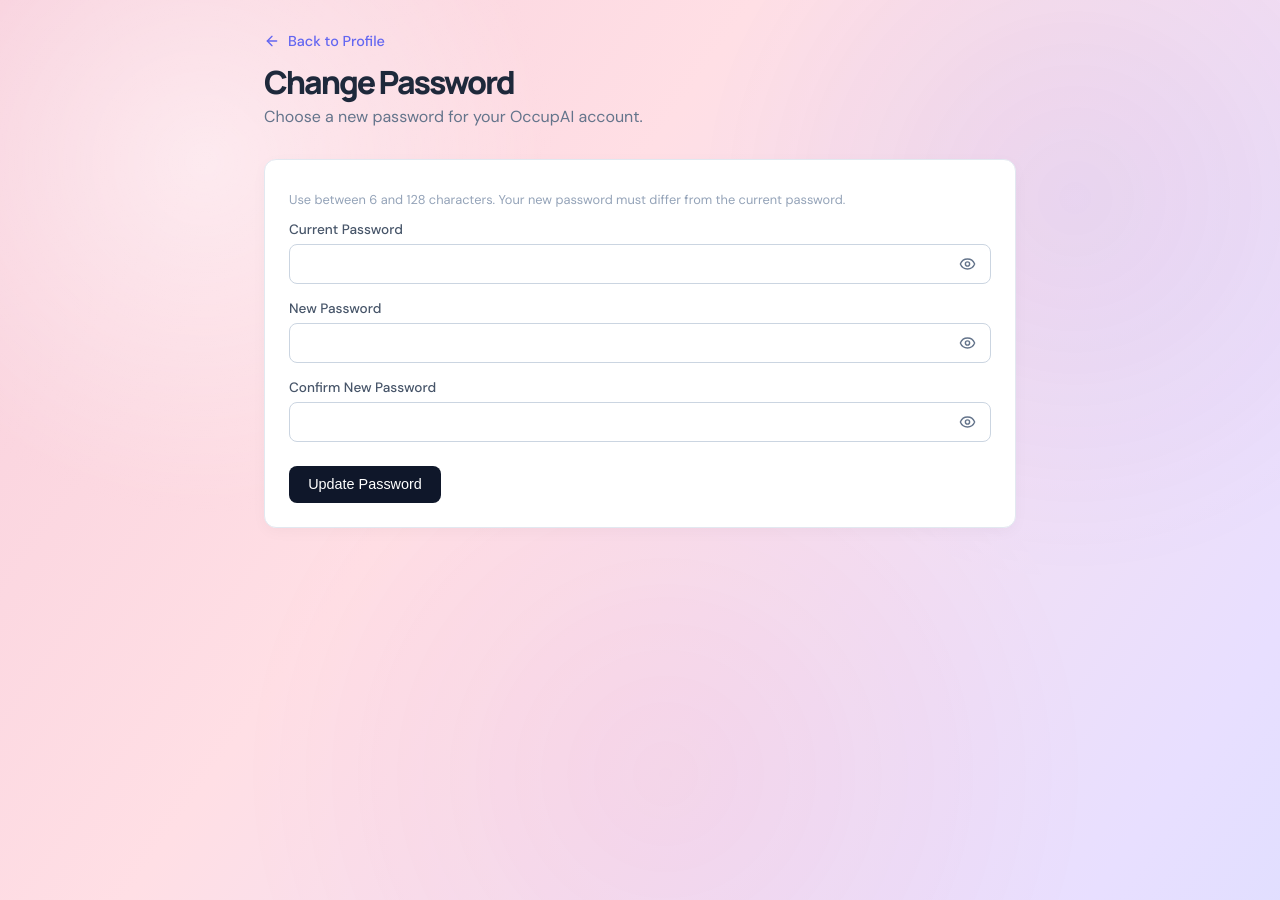
Test: Dedicated password page › uses the registration policy and never writes passwords to browser storage
The width and height of the screenshot is (1280, 900).
Expected: the text "Use between 6 and 128 characters" is shown, [289,191,495,208]
Type "Current1!" into the password field labelled "Current Password" at (640, 264), box [289,244,991,284]
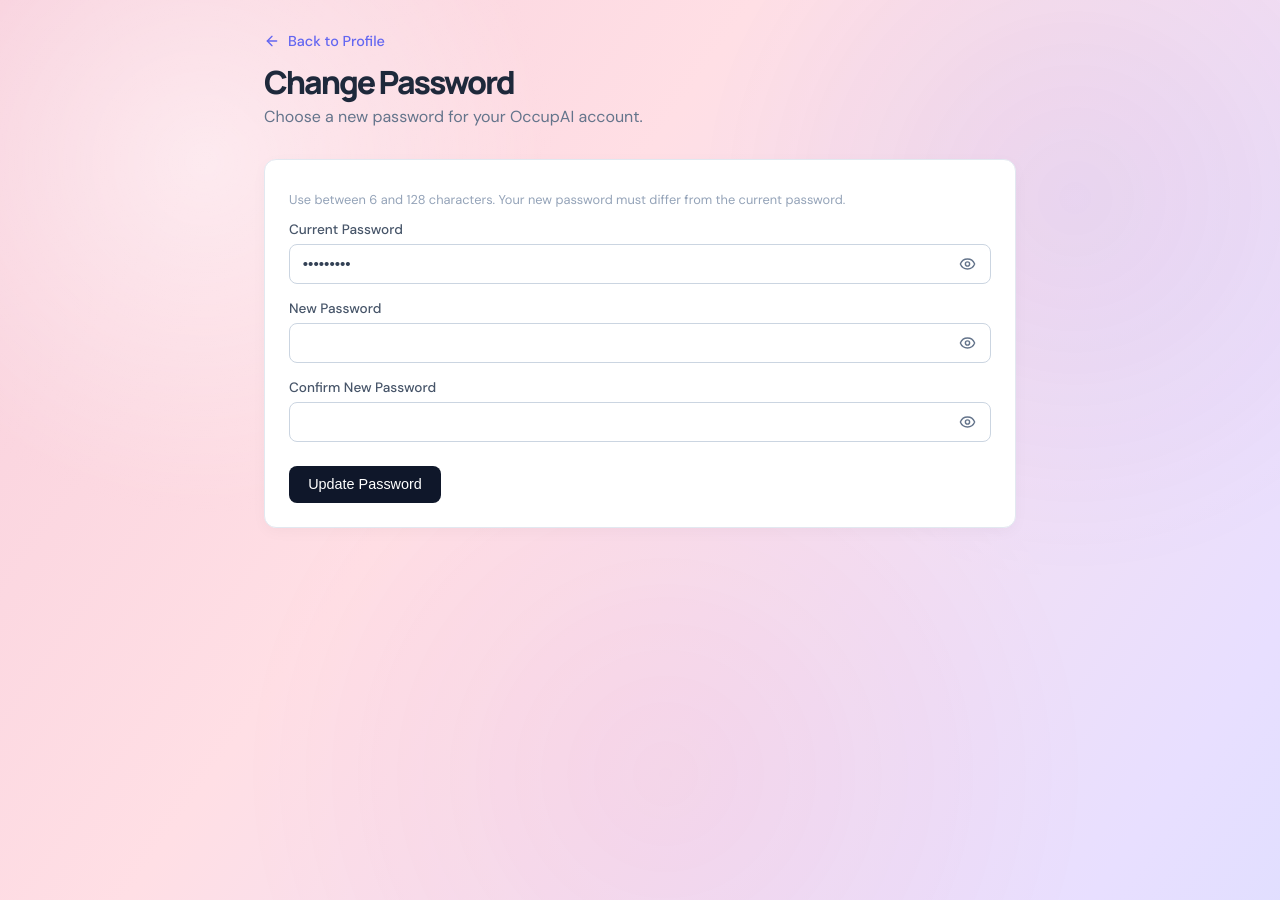
Type "short" into the password field labelled "New Password" at (640, 343), box [289,323,991,363]
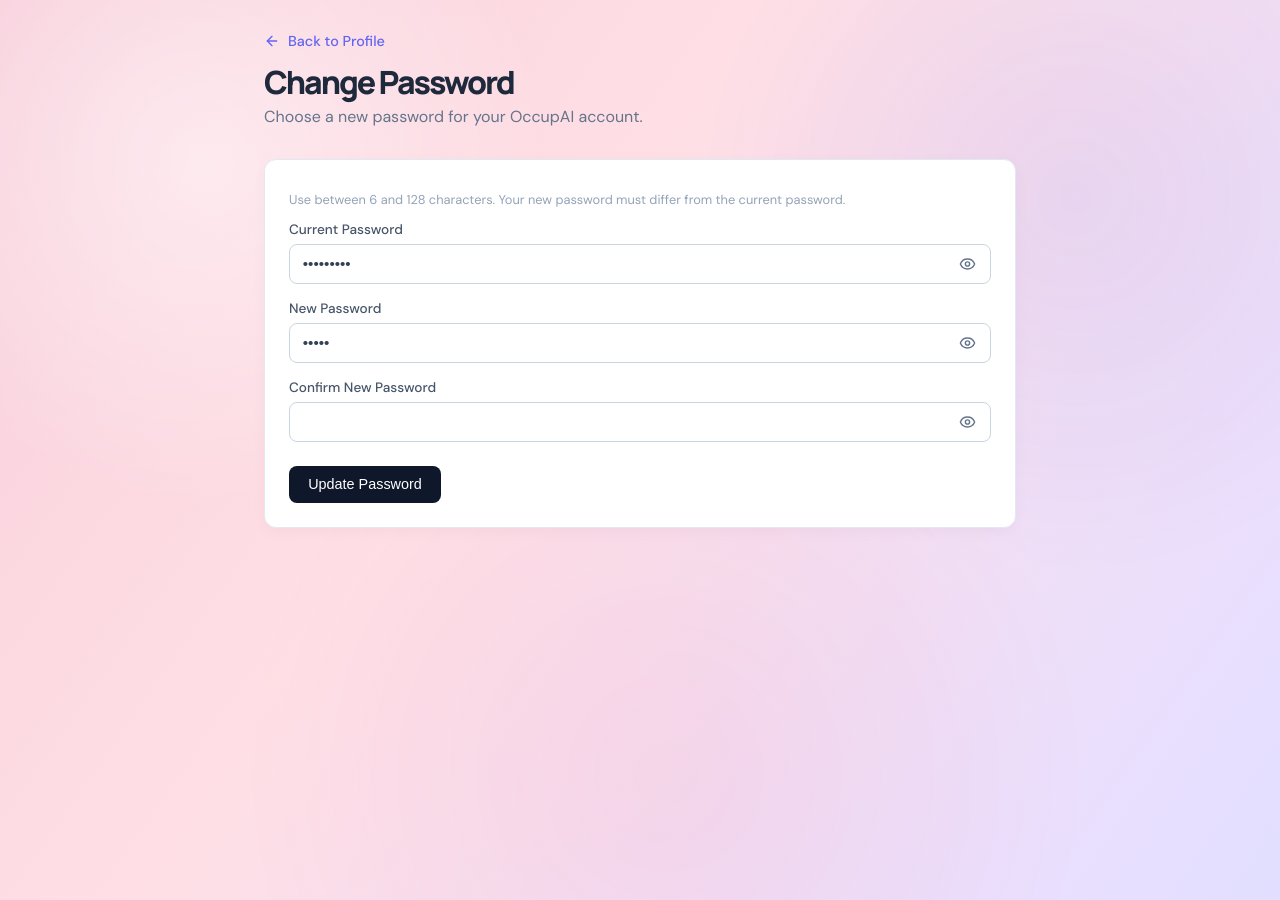
Type "short" into the password field labelled "Confirm New Password" at (640, 422), box [289,402,991,442]
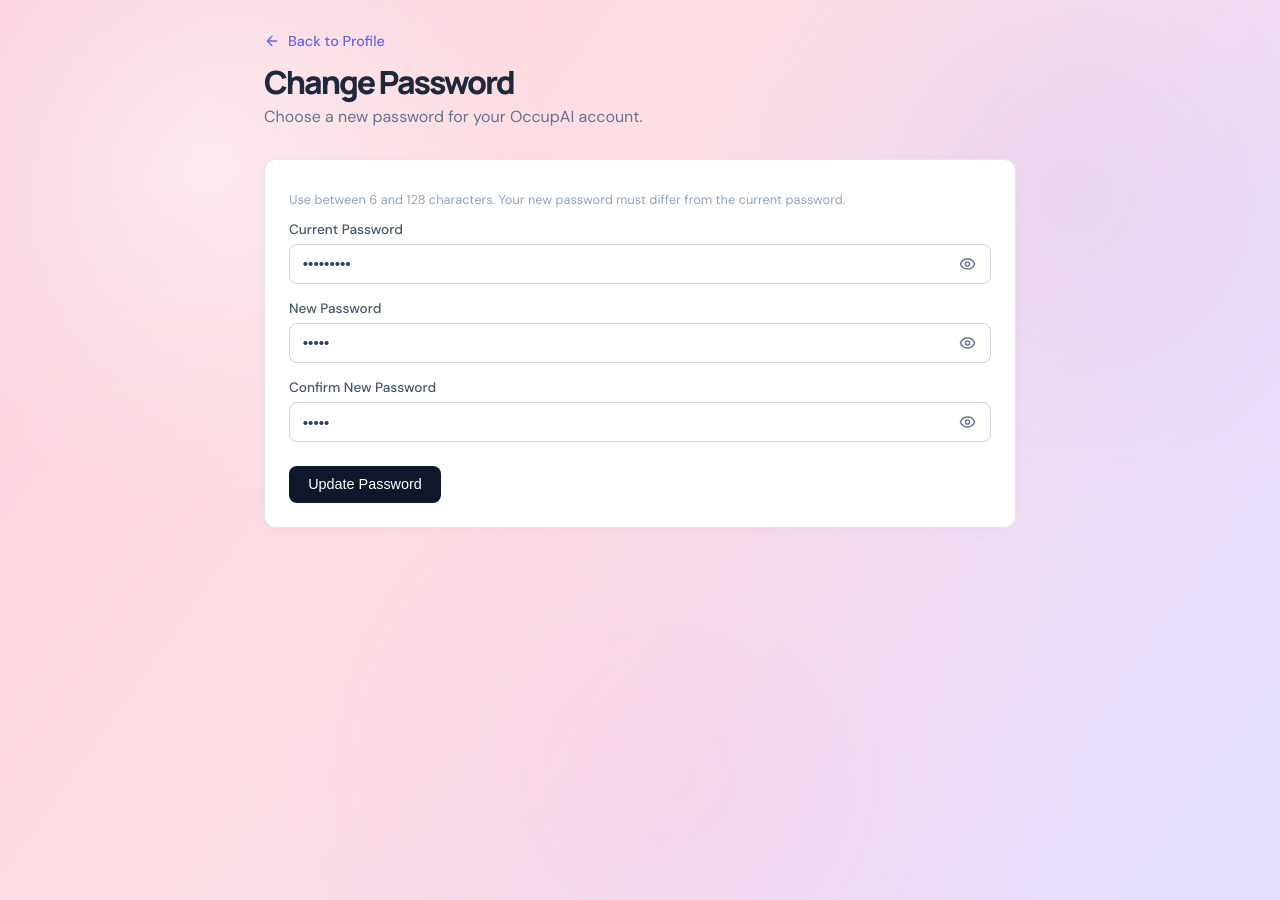
Click the button "Update Password" at (365, 484), box [289,466,441,503]
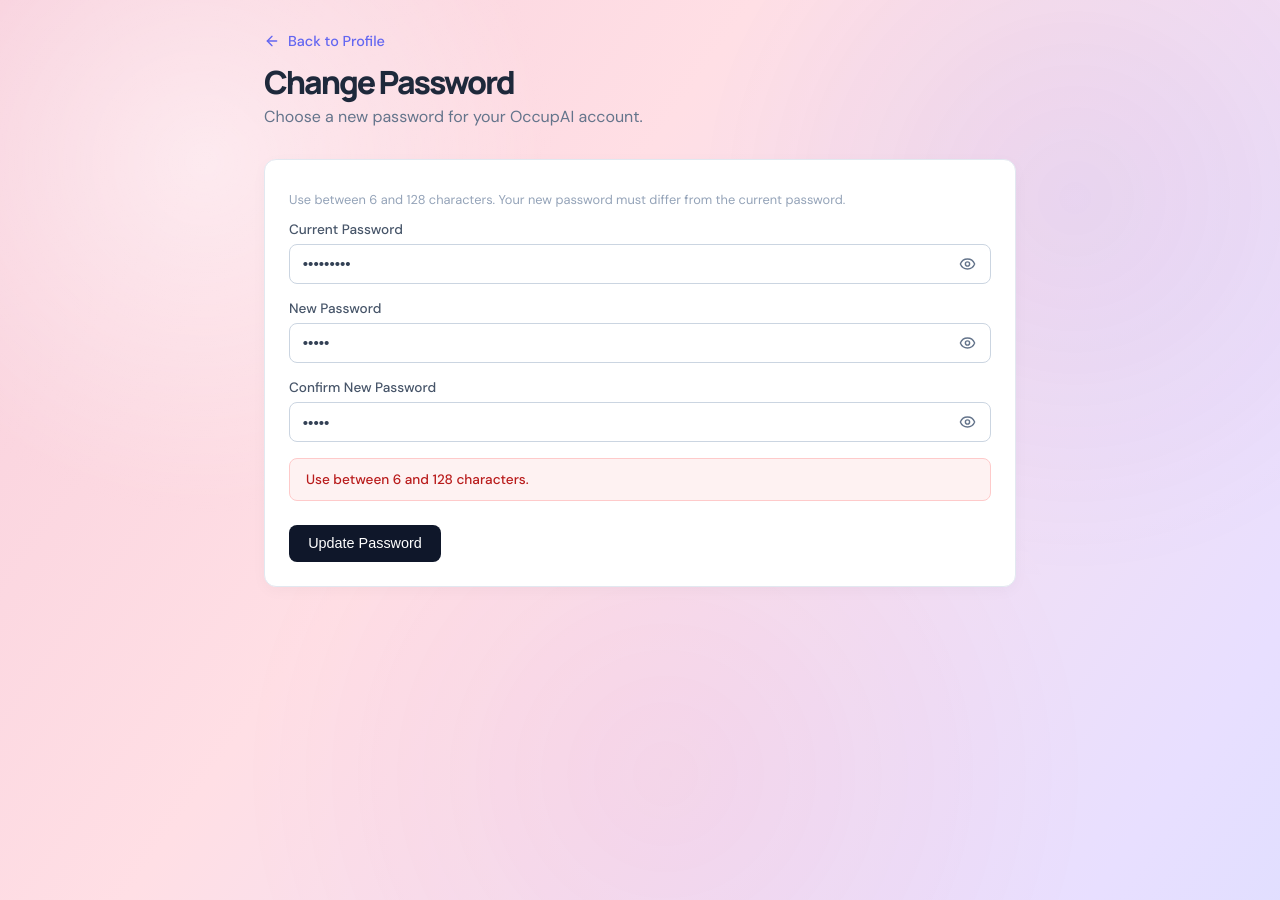
Expected: the message shows "Use between 6 and 128 characters", [306,471,529,488]
